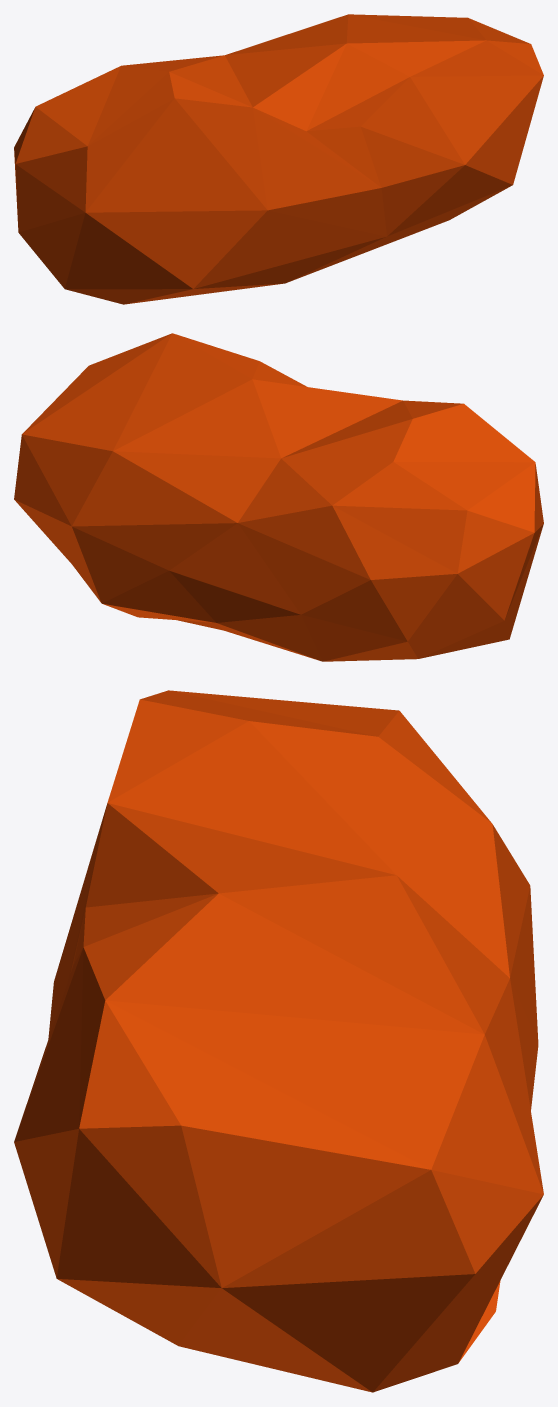
Rendered from 228-24.23a-area 24.23a of cortex-('1.0000', '0.3412', '0.0000').obj.
3 views of the same model, one above another, from view 1: azimuth 30°, elevation 25°; view 2: azimuth 150°, elevation 25°; view 3: azimuth 270°, elevation 25° (orthographic). The views are drawn at different scales.
Size of the model in its own units: 22.95 by 10.35 by 11.15.
